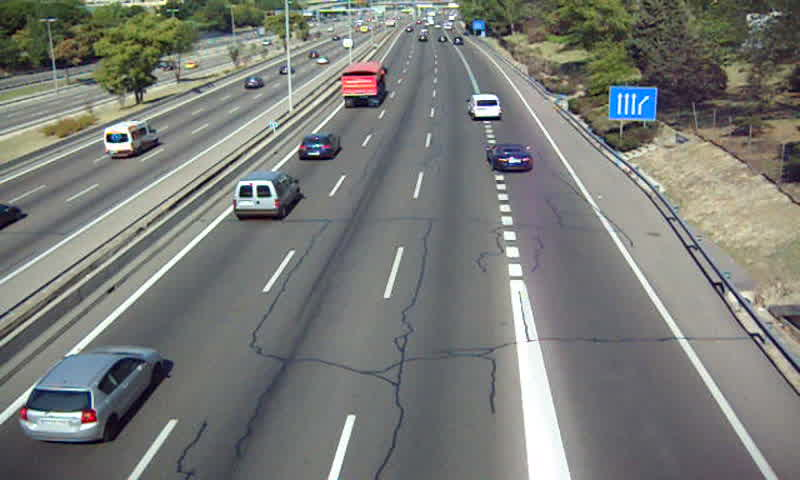car: (18, 348, 159, 443), (488, 142, 535, 172), (297, 132, 340, 160)
truck: (339, 64, 387, 107)
van: (232, 171, 300, 219), (466, 93, 500, 120)
